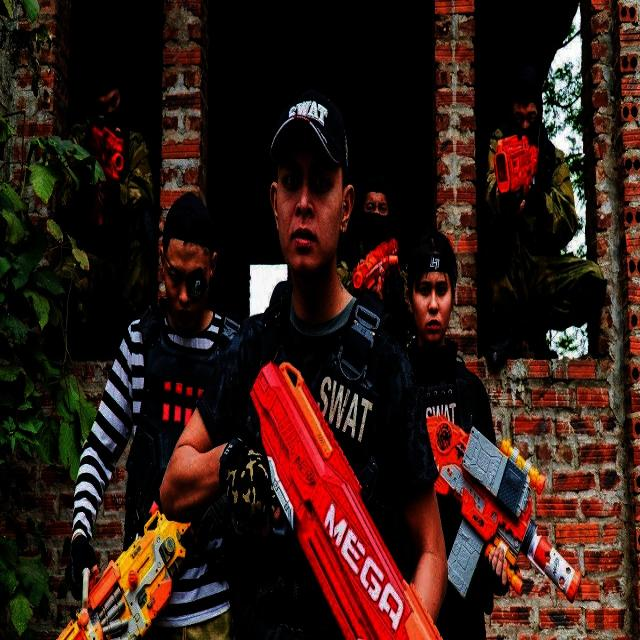Nerf gun: (248, 354, 456, 638), (419, 402, 589, 616), (46, 482, 196, 638), (75, 110, 129, 233), (484, 114, 540, 213), (348, 225, 404, 315)
